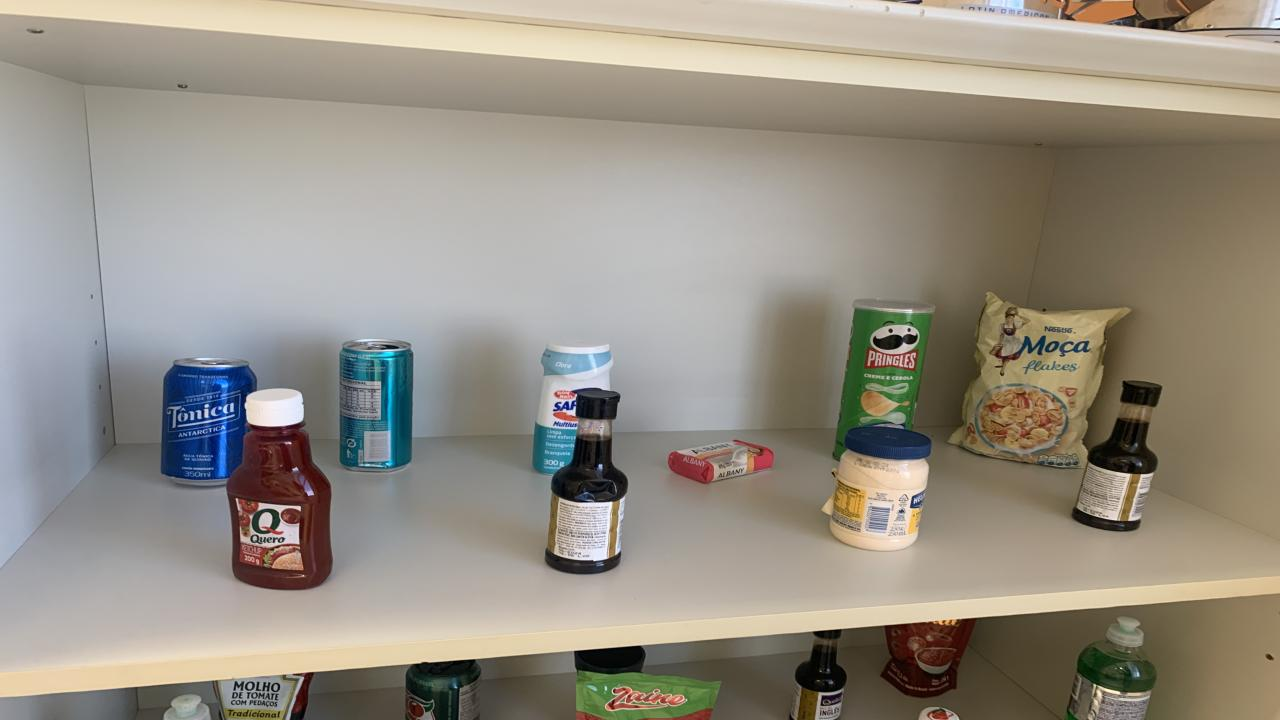Cleaner-Cleanup_Items: (532, 341, 612, 474)
Detergent-Cleanup_Items: (1068, 617, 1158, 720), (162, 694, 210, 720)
English_Sauce-Pantry_Items: (545, 390, 628, 574), (1072, 382, 1160, 531), (790, 630, 848, 720)
Flakes-Snacks: (950, 292, 1130, 469)
Guarana_Can-Drinks: (405, 660, 482, 720)
Ketchup-Pantry_Items: (228, 388, 332, 589)
Mayonnaise-Pantry_Items: (830, 426, 930, 551)
Pringles-Snacks: (832, 298, 935, 459)
Soap-Cleanup_Items: (668, 441, 775, 484)
Tea-Drinks: (340, 339, 412, 471)
Tomato_Sauce-Pantry_Items: (882, 619, 975, 698), (575, 671, 720, 720), (215, 673, 312, 720)
Tonic-Drinks: (160, 358, 258, 486)
